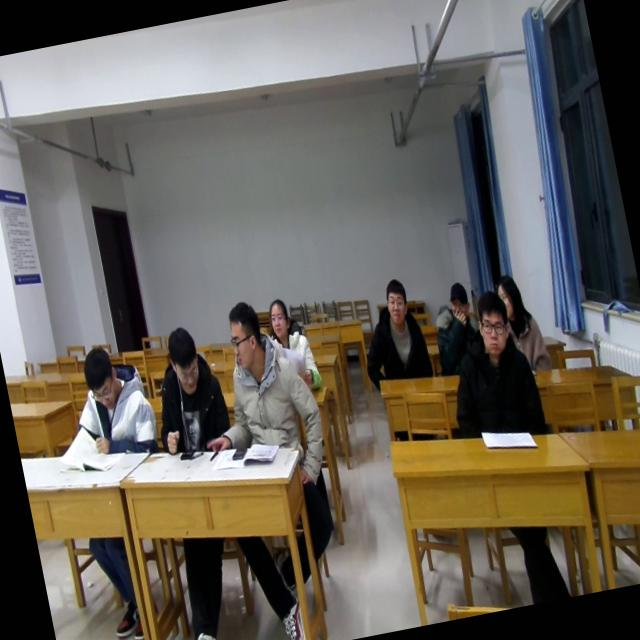down: (158, 322, 206, 403), (75, 338, 125, 414)
lookup: (468, 286, 517, 364), (377, 272, 413, 331), (262, 294, 296, 344), (444, 276, 476, 324)
sit: (202, 290, 326, 461), (434, 284, 550, 448), (140, 319, 236, 462), (63, 339, 163, 464), (348, 274, 434, 389), (262, 290, 326, 398), (492, 268, 554, 378), (424, 276, 490, 376)
